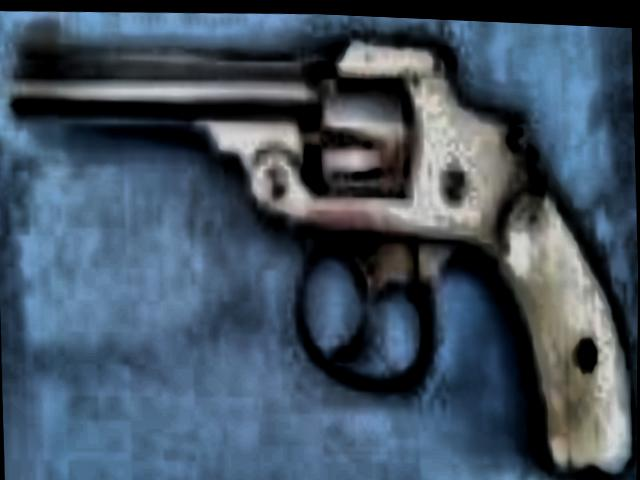pistol: (10, 2, 623, 480)
